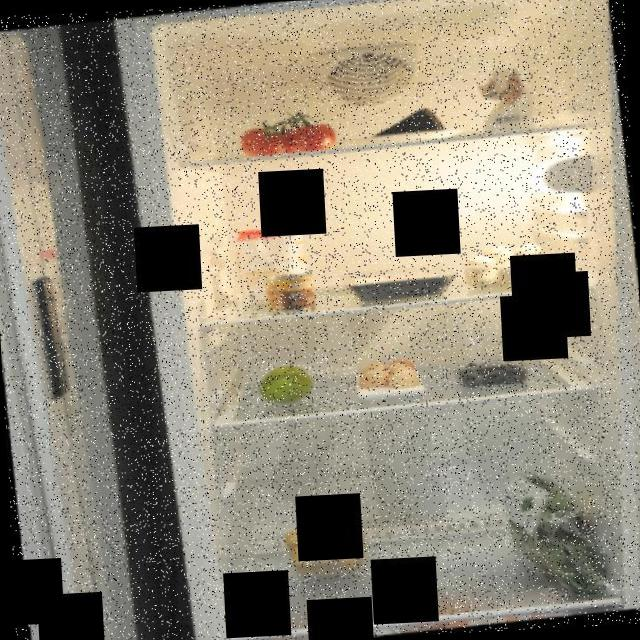Champiñones: (460, 240, 556, 294)
Huevos: (355, 356, 425, 396)
Manzana: (254, 361, 319, 406)
Patata: (280, 518, 376, 584)
Queso: (353, 102, 452, 142)
Tomate: (238, 114, 342, 163)
